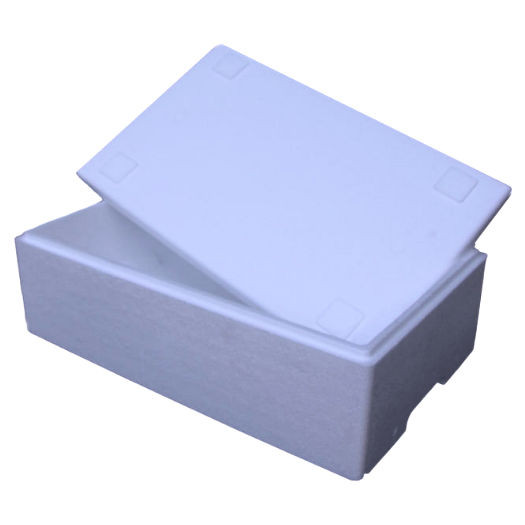Boxes: (16, 50, 509, 480)
